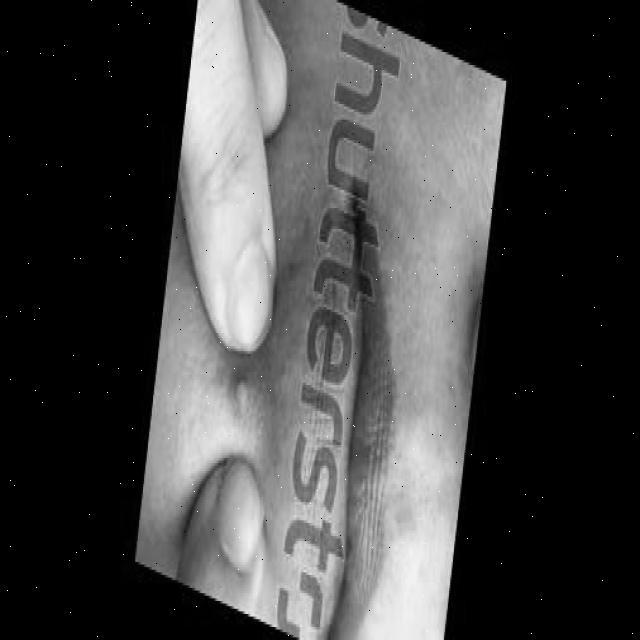Acne: (231, 378, 253, 413)
